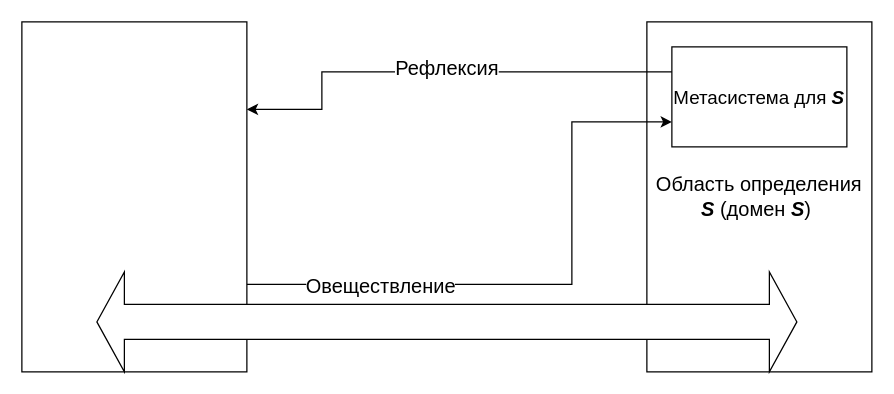
The diagram is 894 pixels wide and 394 high, and some of its shapes have lost their labels. Each missing label, with the centre of its shape:
"Вычислительная система S" belongs at point (134, 196).
"Инспекция и осуществление действий над доменом S и самой S" belongs at point (446, 321).
